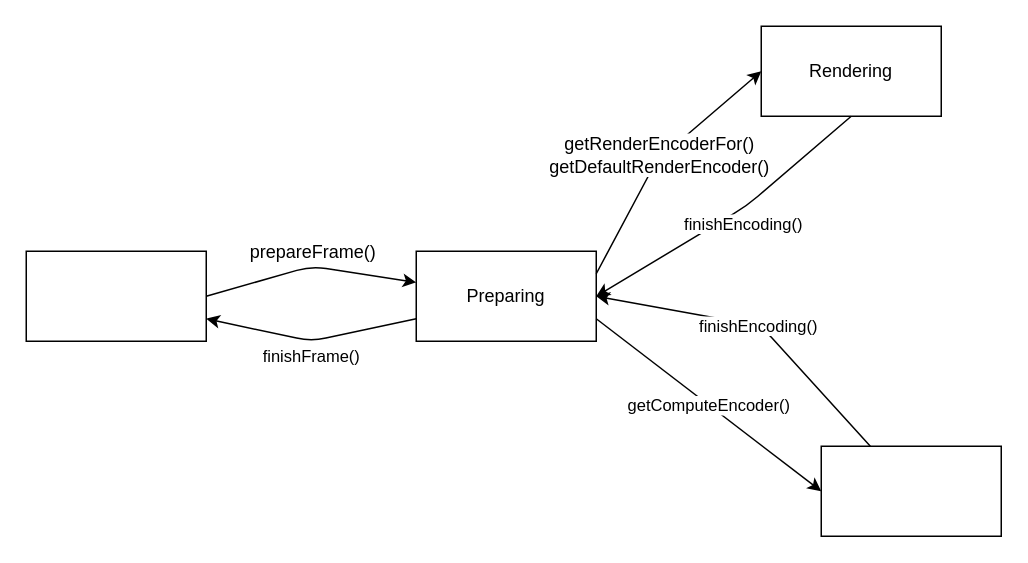
Image size: 1028x563. Some labels were removed from this diagram. Here are the shapes that lost their labels. From the top down, the centre of each, then its label:
At [115,295]: "Idle".
At [910,490]: "Computing".
